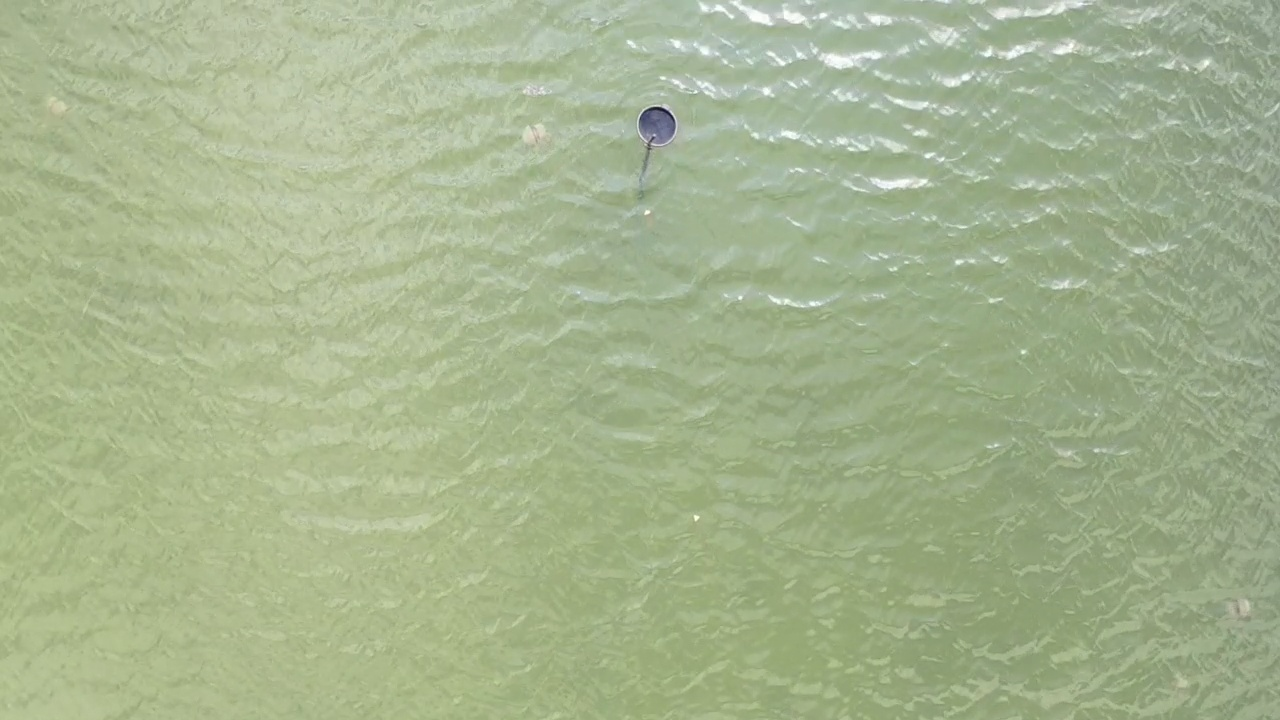meduse: (1224, 598, 1251, 620), (521, 124, 549, 145), (39, 96, 66, 117), (1173, 671, 1189, 689)
